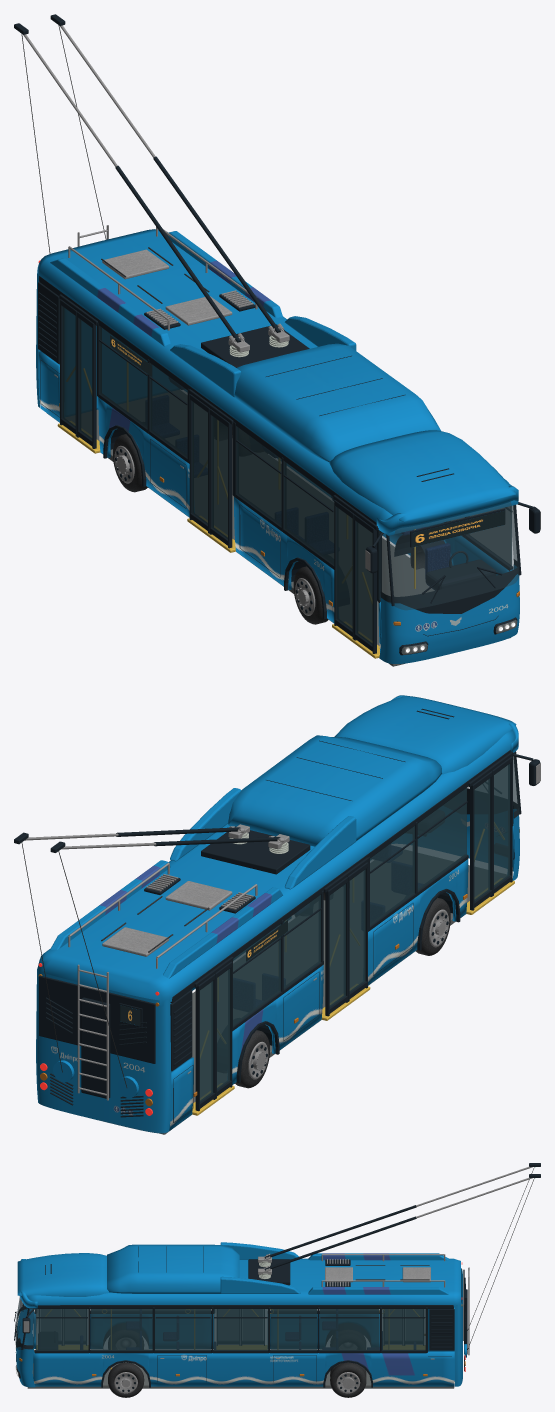
The model's file is bkm32100d-lod0.glb.
The picture shows the model from 3 angles, top to bottom: view 1: azimuth 30°, elevation 25°; view 2: azimuth 150°, elevation 25°; view 3: azimuth 270°, elevation 25°; orthographic projection. The views are drawn at different scales.
Visible parts, largest first — view 1: body-shell--review-blue-body--lod0, body-shell--review-black-frames--lod0, body-shell--review-side-glass--lod0, body-shell--review-floor--lod0, body-shell--review-windshield--lod0, body-shell--review-wheel-and-hardware--lod0, body-shell--review-seat-blockout--lod0, door-front-rearward-pivot--review-side-glass--lod0, door-middle-forward-pivot--review-side-glass--lod0, body-shell--vehicle-destination-display--lod0, door-middle-rearward-pivot--review-side-glass--lod0, door-front-forward-pivot--review-side-glass--lod0 (+12 smaller); view 2: body-shell--review-blue-body--lod0, body-shell--review-black-frames--lod0, body-shell--review-side-glass--lod0, body-shell--review-floor--lod0, body-shell--review-wheel-and-hardware--lod0, body-shell--review-seat-blockout--lod0, door-front-rearward-pivot--review-side-glass--lod0, door-front-forward-pivot--review-side-glass--lod0, door-middle-forward-pivot--review-side-glass--lod0, door-middle-rearward-pivot--review-side-glass--lod0, door-rear-forward-pivot--review-side-glass--lod0, door-rear-rearward-pivot--review-side-glass--lod0 (+14 smaller); view 3: body-shell--review-blue-body--lod0, body-shell--review-side-glass--lod0, body-shell--review-black-frames--lod0, body-shell--review-wheel-and-hardware--lod0, body-shell--review-floor--lod0, body-shell--review-seat-blockout--lod0, body-shell--review-windshield--lod0, wheel-spin-rear-right--review-tire-rubber--lod0, wheel-spin-front-right--review-tire-rubber--lod0, body-shell--review-door-threshold--lod0, door-middle-forward-pivot--review-side-glass--lod0, door-front-rearward-pivot--review-side-glass--lod0 (+11 smaller).
Boxes of the visible parts, x1,y1,x2,y2 form: body-shell--review-blue-body--lod0: (36,229,519,663); body-shell--review-black-frames--lod0: (38,276,521,655); body-shell--review-side-glass--lod0: (99,326,511,598); body-shell--review-floor--lod0: (47,390,510,666); body-shell--review-windshield--lod0: (379,502,519,609); body-shell--review-wheel-and-hardware--lod0: (54,225,515,653); body-shell--review-seat-blockout--lod0: (146,378,450,590); door-front-rearward-pivot--review-side-glass--lod0: (336,507,352,630); door-middle-forward-pivot--review-side-glass--lod0: (211,416,227,539); body-shell--vehicle-destination-display--lod0: (110,335,504,547); door-middle-rearward-pivot--review-side-glass--lod0: (192,401,207,524); door-front-forward-pivot--review-side-glass--lod0: (356,521,372,645); body-shell--review-blue-body--lod0: (36,695,519,1133); body-shell--review-black-frames--lod0: (39,708,521,1122); body-shell--review-side-glass--lod0: (233,788,466,1026); body-shell--review-floor--lod0: (159,850,506,1134); body-shell--review-wheel-and-hardware--lod0: (68,824,410,1100); body-shell--review-seat-blockout--lod0: (233,844,422,1011); door-front-rearward-pivot--review-side-glass--lod0: (474,778,490,901); door-front-forward-pivot--review-side-glass--lod0: (494,763,510,886); door-middle-forward-pivot--review-side-glass--lod0: (349,869,365,992); door-middle-rearward-pivot--review-side-glass--lod0: (329,884,345,1007); door-rear-forward-pivot--review-side-glass--lod0: (217,968,230,1089); door-rear-rearward-pivot--review-side-glass--lod0: (200,981,213,1102); body-shell--review-blue-body--lod0: (16,1242,466,1387); body-shell--review-side-glass--lod0: (35,1309,425,1350); body-shell--review-black-frames--lod0: (15,1246,467,1387); body-shell--review-wheel-and-hardware--lod0: (16,1254,469,1375); body-shell--review-floor--lod0: (27,1349,454,1388); body-shell--review-seat-blockout--lod0: (80,1309,415,1349); body-shell--review-windshield--lod0: (15,1296,39,1349); wheel-spin-rear-right--review-tire-rubber--lod0: (330,1362,366,1397); wheel-spin-front-right--review-tire-rubber--lod0: (108,1362,144,1397); body-shell--review-door-threshold--lod0: (37,1309,424,1369); door-middle-forward-pivot--review-side-glass--lod0: (218,1309,238,1339); door-front-rearward-pivot--review-side-glass--lod0: (65,1309,85,1339).
Bounding box in the file's own units: 3.28 × 6.25 × 14.23.
Materials: 15 (4 with a texture image).
